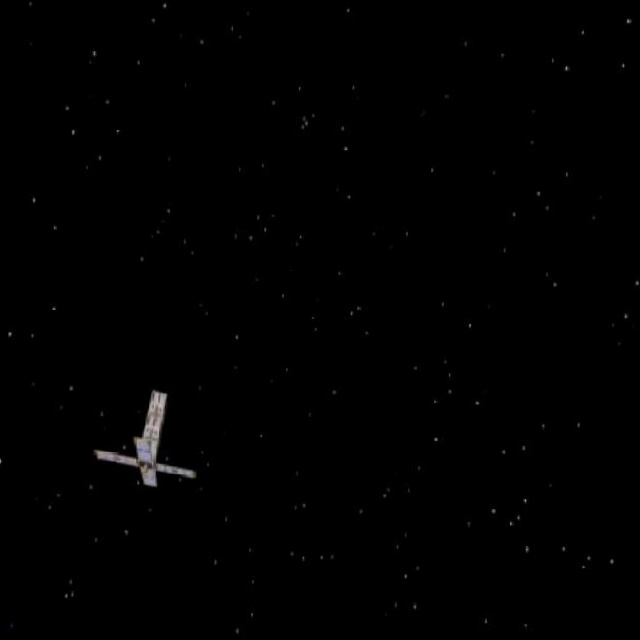medium_debris: (94, 367, 208, 509)
